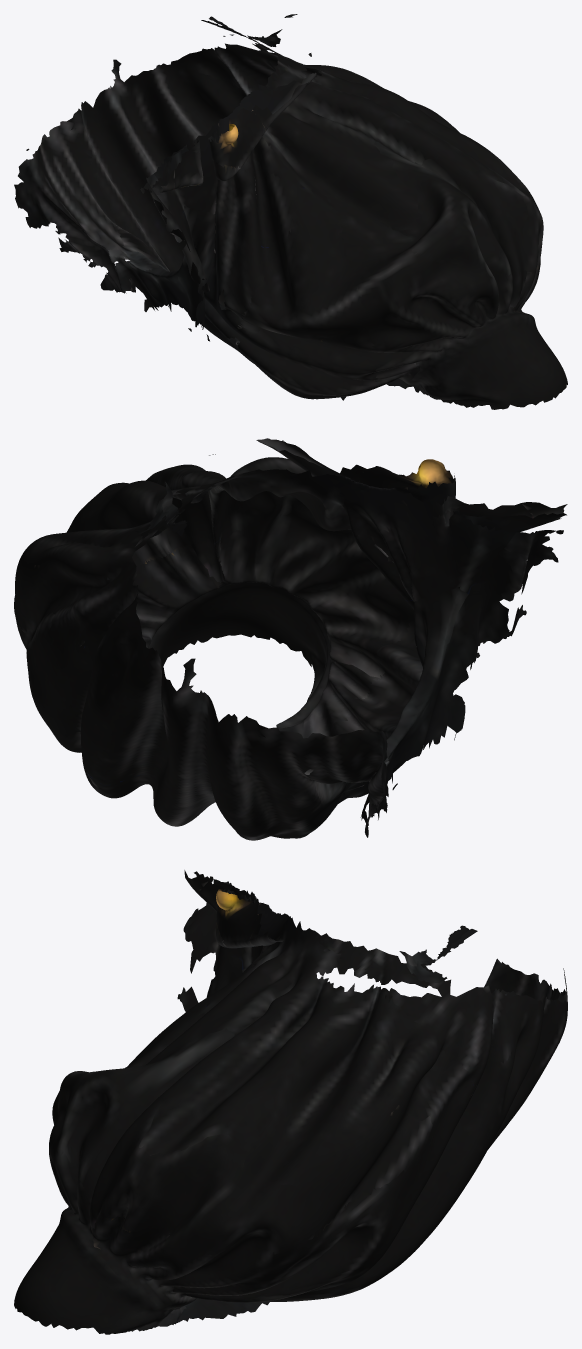
File: pierIzqArriba.obj
3 renders of one model, top to bottom at view 1: azimuth 30°, elevation 25°; view 2: azimuth 150°, elevation 25°; view 3: azimuth 270°, elevation 25°, orthographic. The views are drawn at different scales.
Visible parts, largest first — view 1: pierIzqArriba001; view 2: pierIzqArriba001; view 3: pierIzqArriba001.
Part boxes in pixels (x1,y1,x2,y2): pierIzqArriba001: (14, 14, 567, 409); pierIzqArriba001: (14, 438, 567, 840); pierIzqArriba001: (14, 870, 567, 1334).
Size of the model in its own units: 0.4335 by 0.3449 by 0.4674.
1 material, 1 textured.
